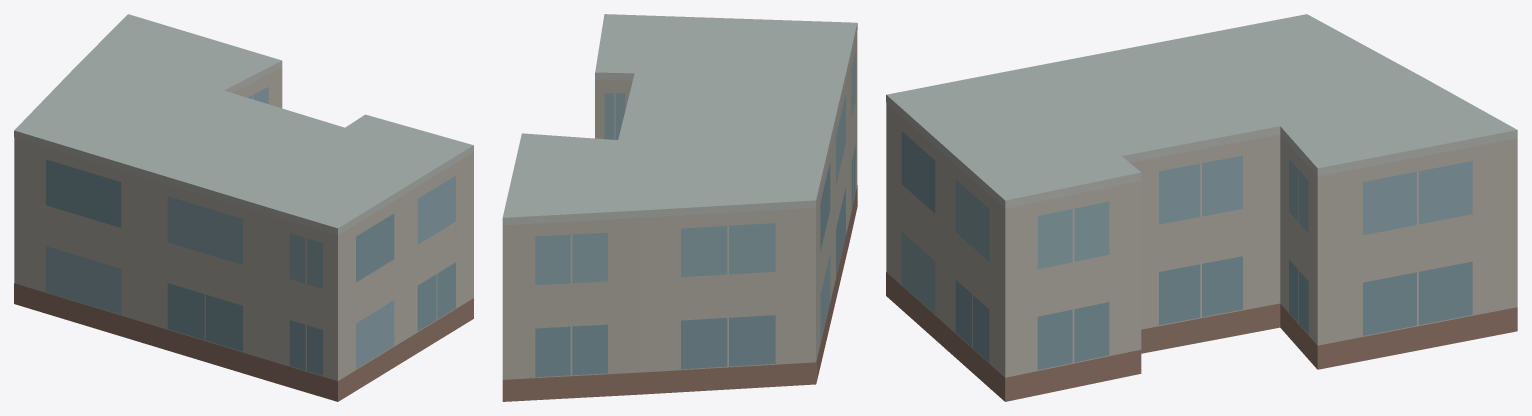
The model's file is survey-upis-32728003.glb.
3 renders of one model, left to right at view 1: azimuth 30°, elevation 25°; view 2: azimuth 150°, elevation 25°; view 3: azimuth 270°, elevation 25°, orthographic. The views are drawn at different scales.
Parts seen in each view (by area): view 1: survey-upis-32728003.tmp; view 2: survey-upis-32728003.tmp; view 3: survey-upis-32728003.tmp.
Boxes of the visible parts, left/top/right/bottom form: survey-upis-32728003.tmp: left=14, top=14, right=473, bottom=401; survey-upis-32728003.tmp: left=502, top=14, right=857, bottom=401; survey-upis-32728003.tmp: left=886, top=14, right=1517, bottom=401.
Bounding box in the file's own units: 12.14 × 6.1 × 17.35.
